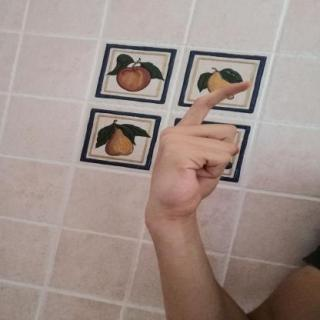RAA: (140, 71, 258, 227)
